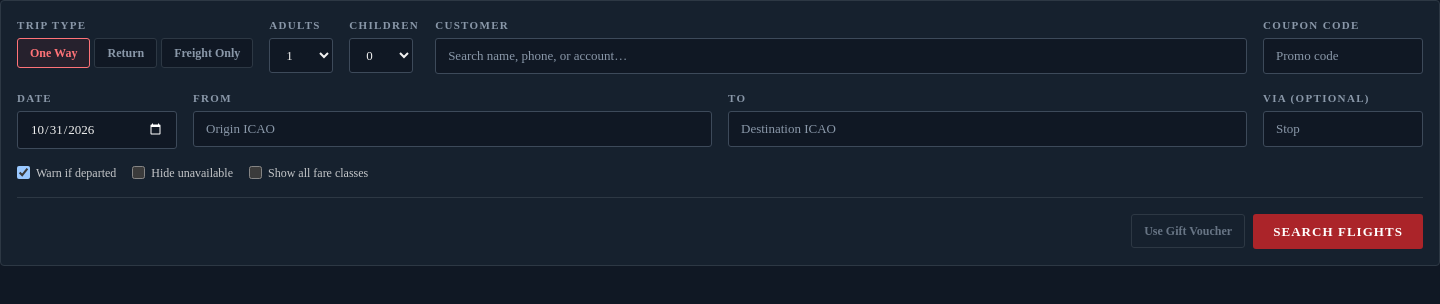
Test: NewBookingSearchForm — airport identifiers › refuses PANC` as an origin
Type "PANC`" into the field with placeholder "Origin ICAO".
click(452, 129); type("PANC`")  # box [193,111,712,147]
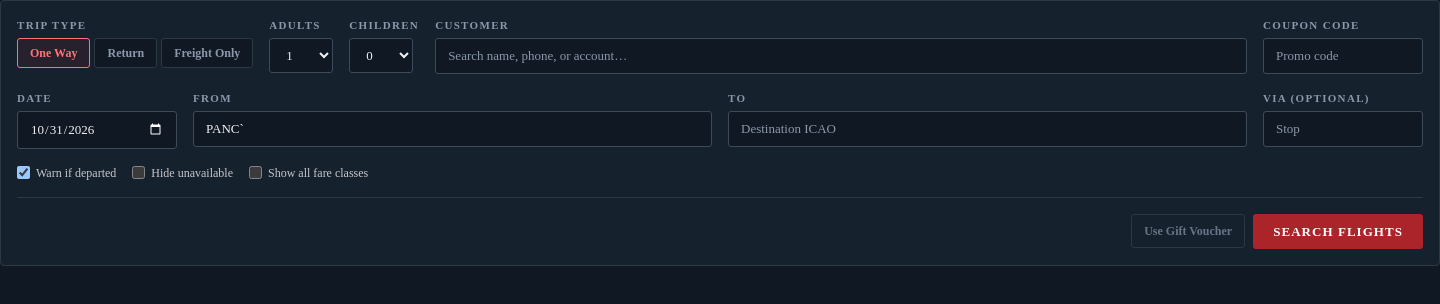
Type "PABE" into the field with placeholder "Destination ICAO".
click(988, 129); type("PABE")  # box [728,111,1247,147]
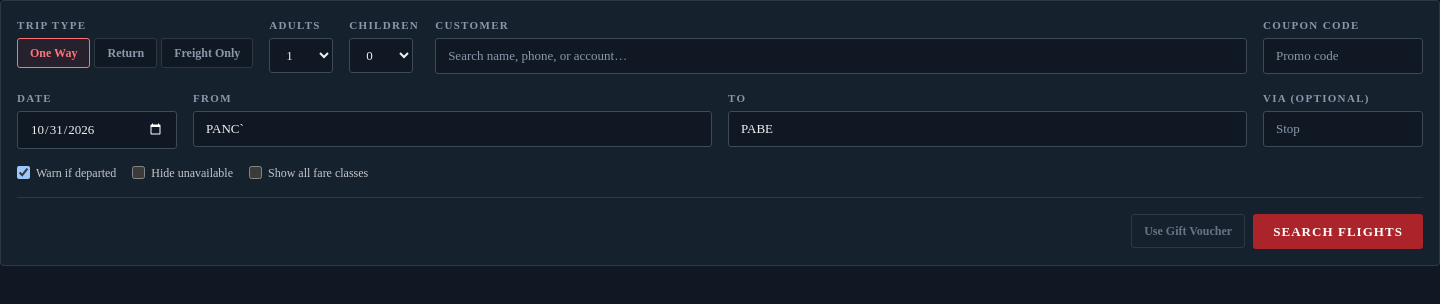
Click the button "Search Flights".
click(1338, 231)  # box [1253,214,1423,249]
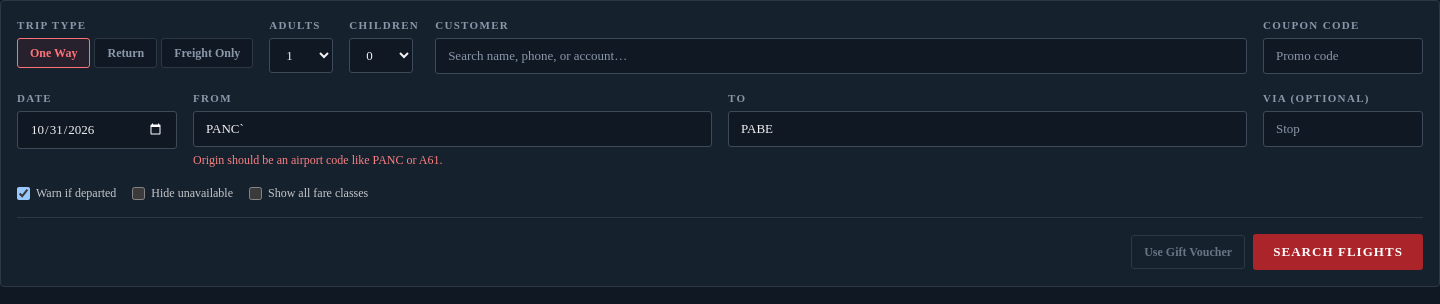
Check: the text "Origin should be an airport code like PANC or A61." is shown, box [193,154,442,168]
